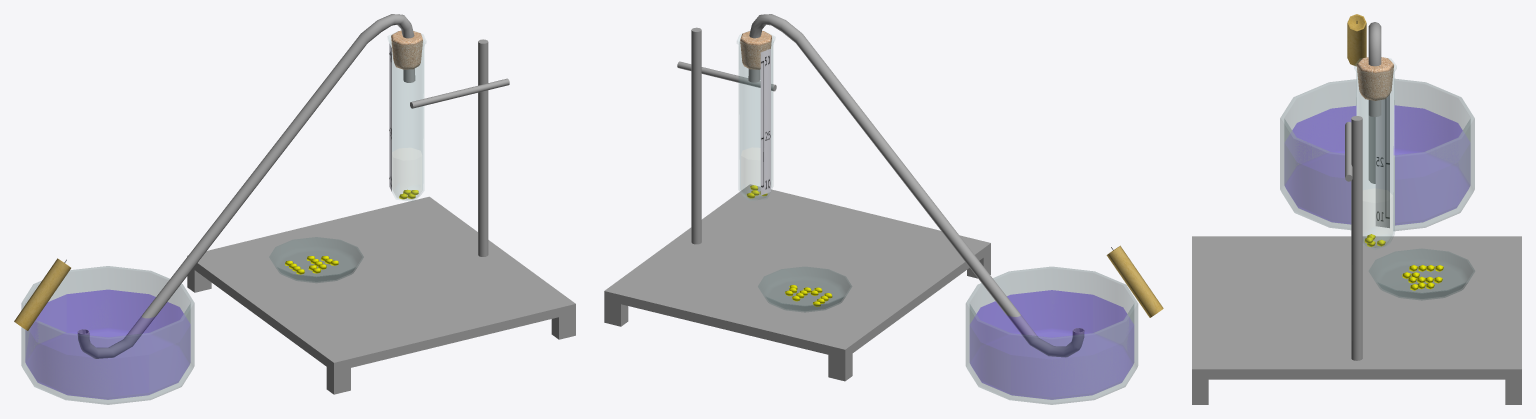
3 renders of one model, left to right at view 1: azimuth 30°, elevation 25°; view 2: azimuth 150°, elevation 25°; view 3: azimuth 270°, elevation 25°, orthographic. The views are drawn at different scales.
Visible parts, largest first — view 1: pCube1, polySurface1, polySurface2, pCylinder5, test_tube5, pCylinder9, pCylinder1, pCylinder7, pCylinder6, pCylinder2; view 2: pCube1, polySurface1, polySurface2, pCylinder5, test_tube5, pCylinder9, pCylinder1, pCylinder7, pCylinder6, pCylinder2; view 3: pCube1, polySurface1, polySurface2, test_tube5, pCylinder9, pCylinder1, pCylinder5, pCylinder6, pCylinder7, pCylinder2.
Part boxes in pixels (box(x1,y1,x2,y2)): pCube1: box(187, 196, 575, 394); polySurface1: box(21, 266, 194, 404); polySurface2: box(25, 290, 190, 399); pCylinder5: box(77, 14, 415, 358); test_tube5: box(388, 34, 425, 200); pCylinder9: box(269, 237, 363, 282); pCylinder1: box(478, 39, 488, 256); pCylinder7: box(14, 258, 70, 330); pCylinder6: box(391, 30, 422, 69); pCylinder2: box(410, 78, 509, 108); pCube1: box(604, 184, 990, 381); polySurface1: box(966, 267, 1137, 404); polySurface2: box(970, 290, 1133, 399); pCylinder5: box(748, 14, 1084, 357); test_tube5: box(737, 34, 774, 200); pCylinder9: box(758, 267, 851, 312); pCylinder1: box(691, 27, 701, 244); pCylinder7: box(1106, 245, 1163, 317); pCylinder6: box(740, 31, 771, 69); pCylinder2: box(677, 61, 776, 91); pCube1: box(1192, 236, 1521, 404); polySurface1: box(1280, 79, 1474, 230); polySurface2: box(1285, 105, 1469, 224); test_tube5: box(1354, 58, 1396, 249); pCylinder9: box(1369, 248, 1474, 300); pCylinder1: box(1351, 116, 1362, 360); pCylinder5: box(1368, 22, 1381, 183); pCylinder6: box(1356, 57, 1393, 100); pCylinder7: box(1347, 14, 1366, 66); pCylinder2: box(1345, 122, 1352, 181).
Size of the model in its own units: 84.82 by 47.63 by 44.01.
Materials: 10 (3 with a texture image).
